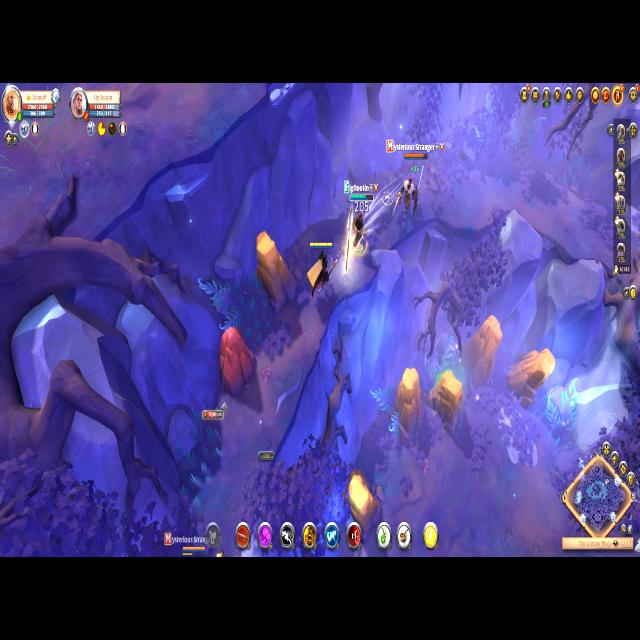red: (382, 129, 448, 233), (344, 169, 378, 274), (302, 230, 341, 318), (159, 525, 218, 560)
tree: (504, 336, 560, 432), (458, 300, 508, 404), (251, 225, 302, 322), (210, 316, 261, 399), (428, 359, 470, 451), (392, 362, 428, 454), (339, 458, 380, 534)
